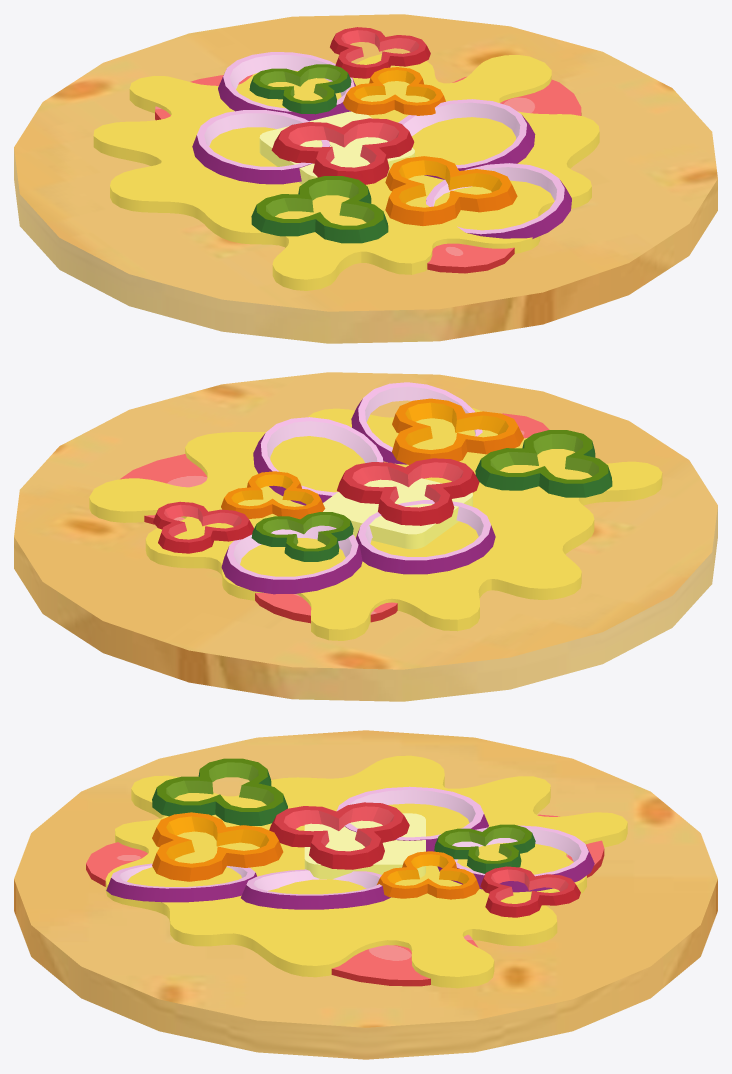
Rendered from taco_Carne_Cebolla_Pimiento_Salsa.glb.
The picture shows the model from 3 angles, top to bottom: view 1: azimuth 30°, elevation 25°; view 2: azimuth 150°, elevation 25°; view 3: azimuth 270°, elevation 25°; orthographic projection.
Parts seen in each view (by area): view 1: tortilla.002, Melted_Butter_Butter_0, Pepper_Slice_Pepper_0, Pepper_Slice_Pepper_0.001, Onion_Slice_Onion_0, Onion_Slice_Onion_0.001, Ham_Slice_Ham_0.002; view 2: tortilla.002, Melted_Butter_Butter_0, Pepper_Slice_Pepper_0, Pepper_Slice_Pepper_0.001, Onion_Slice_Onion_0, Onion_Slice_Onion_0.001, Ham_Slice_Ham_0.002; view 3: tortilla.002, Melted_Butter_Butter_0, Pepper_Slice_Pepper_0, Pepper_Slice_Pepper_0.001, Onion_Slice_Onion_0.001, Onion_Slice_Onion_0, Ham_Slice_Ham_0.002.
Part boxes in pixels (box(x1,y1,x2,y2)): tortilla.002: box(14, 14, 717, 343); Melted_Butter_Butter_0: box(93, 54, 599, 290); Pepper_Slice_Pepper_0: box(251, 118, 517, 243); Pepper_Slice_Pepper_0.001: box(249, 27, 445, 115); Onion_Slice_Onion_0: box(192, 52, 355, 184); Onion_Slice_Onion_0.001: box(398, 99, 571, 238); Ham_Slice_Ham_0.002: box(155, 74, 581, 273); tortilla.002: box(14, 372, 717, 701); Melted_Butter_Butter_0: box(89, 407, 662, 640); Pepper_Slice_Pepper_0: box(337, 398, 612, 525); Pepper_Slice_Pepper_0.001: box(153, 471, 353, 561); Onion_Slice_Onion_0: box(221, 500, 495, 594); Onion_Slice_Onion_0.001: box(253, 382, 482, 505); Ham_Slice_Ham_0.002: box(120, 413, 549, 623); tortilla.002: box(14, 730, 717, 1059); Melted_Butter_Butter_0: box(105, 755, 627, 988); Pepper_Slice_Pepper_0: box(152, 758, 409, 881); Pepper_Slice_Pepper_0.001: box(377, 824, 580, 917); Onion_Slice_Onion_0.001: box(106, 863, 390, 909); Onion_Slice_Onion_0: box(336, 786, 594, 892); Ham_Slice_Ham_0.002: box(86, 814, 604, 986).
Bounding box in the file's own units: 0.2118 × 0.0248 × 0.2118.
5 materials, 5 textured.
